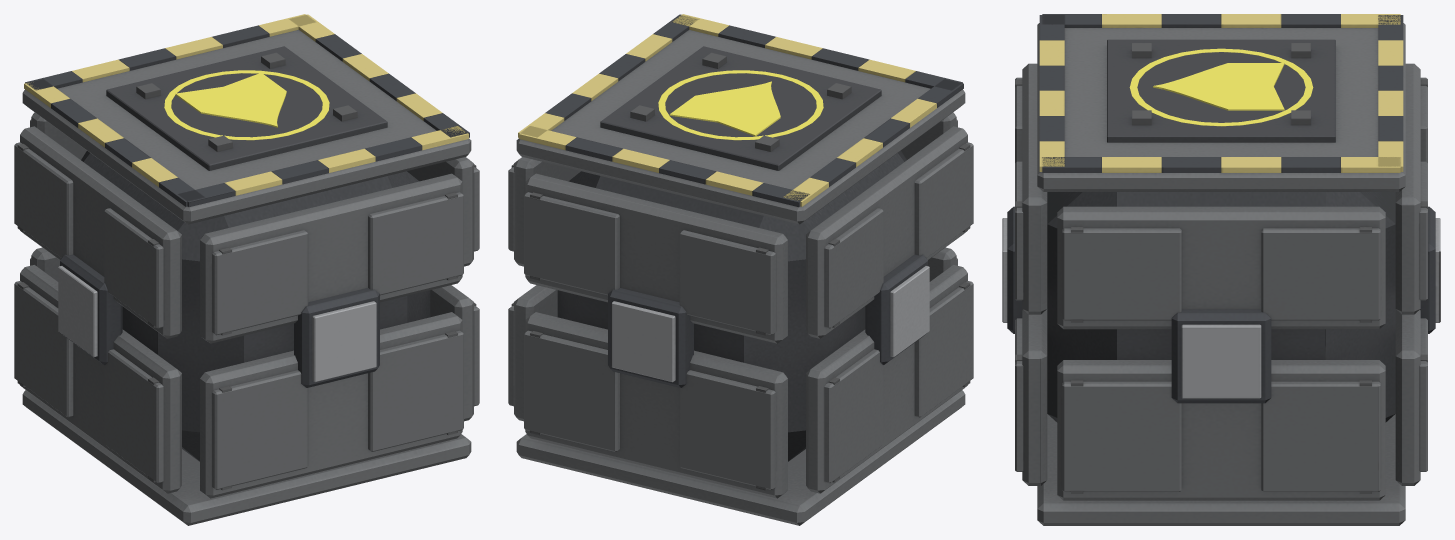
File: SM_ArmorBulkhead.fbx
3 renders of one model, left to right at view 1: azimuth 30°, elevation 25°; view 2: azimuth 150°, elevation 25°; view 3: azimuth 270°, elevation 25°, orthographic. The views are drawn at different scales.
Visible parts, largest first — view 1: SMN_ArmorBulkhead, Emblem_ArmorBulkhead; view 2: SMN_ArmorBulkhead, Emblem_ArmorBulkhead; view 3: SMN_ArmorBulkhead, Emblem_ArmorBulkhead.
Part boxes in pixels (left/top/right/bottom): SMN_ArmorBulkhead: left=14, top=14, right=479, bottom=525; Emblem_ArmorBulkhead: left=164, top=70, right=329, bottom=140; SMN_ArmorBulkhead: left=508, top=14, right=973, bottom=525; Emblem_ArmorBulkhead: left=658, top=70, right=823, bottom=140; SMN_ArmorBulkhead: left=1002, top=14, right=1440, bottom=525; Emblem_ArmorBulkhead: left=1129, top=48, right=1313, bottom=126.
Size of the model in its own units: 0.88 by 0.82 by 0.88.
